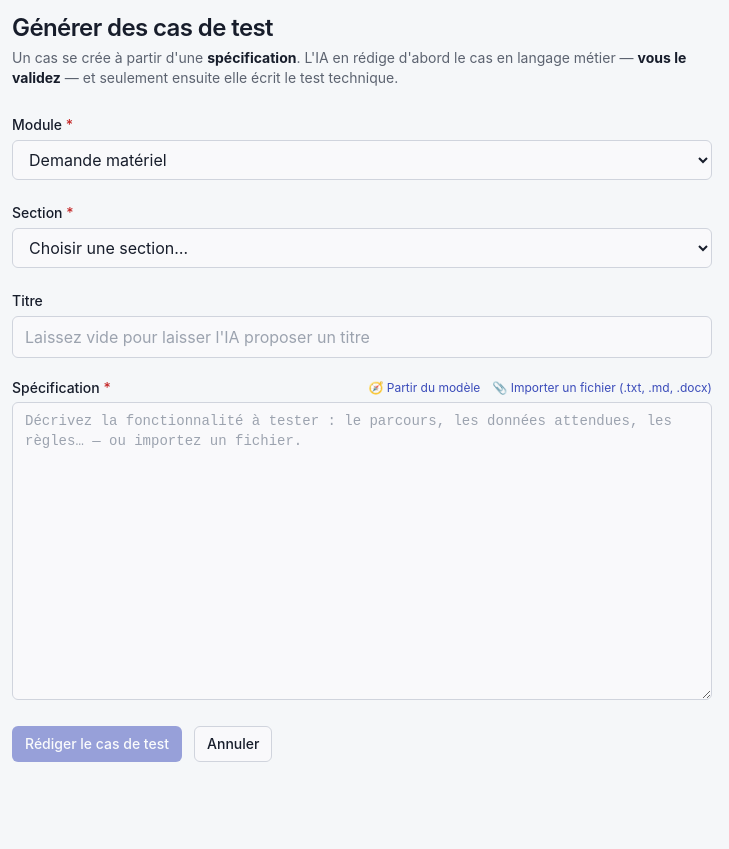
AddTestCase — la pause métier (0022 n°5, étendue au §9, à PLAT et repliée depuis l'étape 3bis) › REFUSE de valider un cas amputé de ses étapes
Replace the text in the text box with "La spécification à tester": point(362, 551) [12,402,712,700]
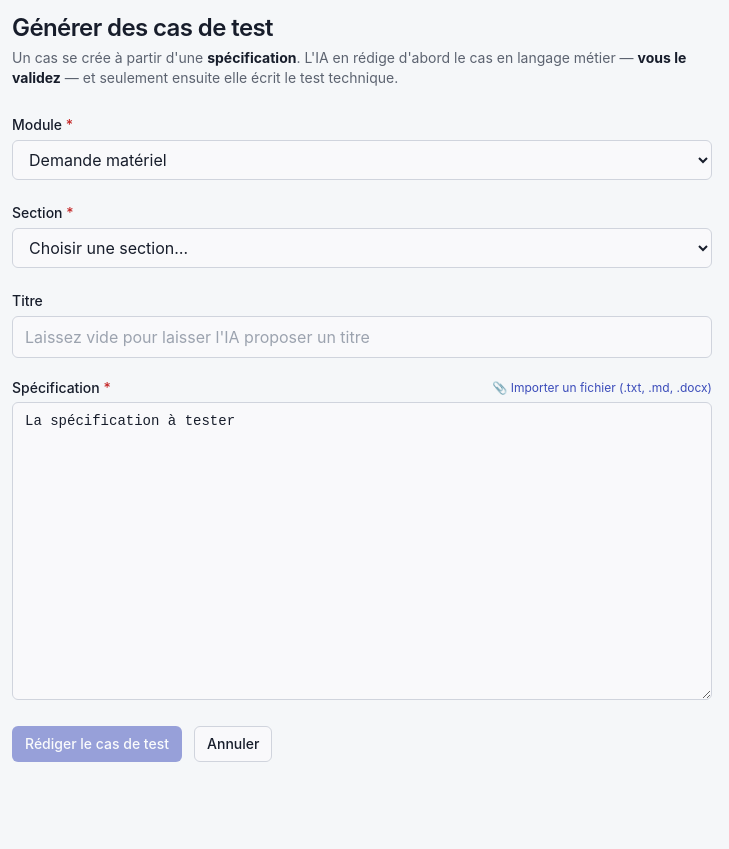
Select "Connexion" in the dropdown labelled "Section *": point(362, 248) [12,228,712,268]
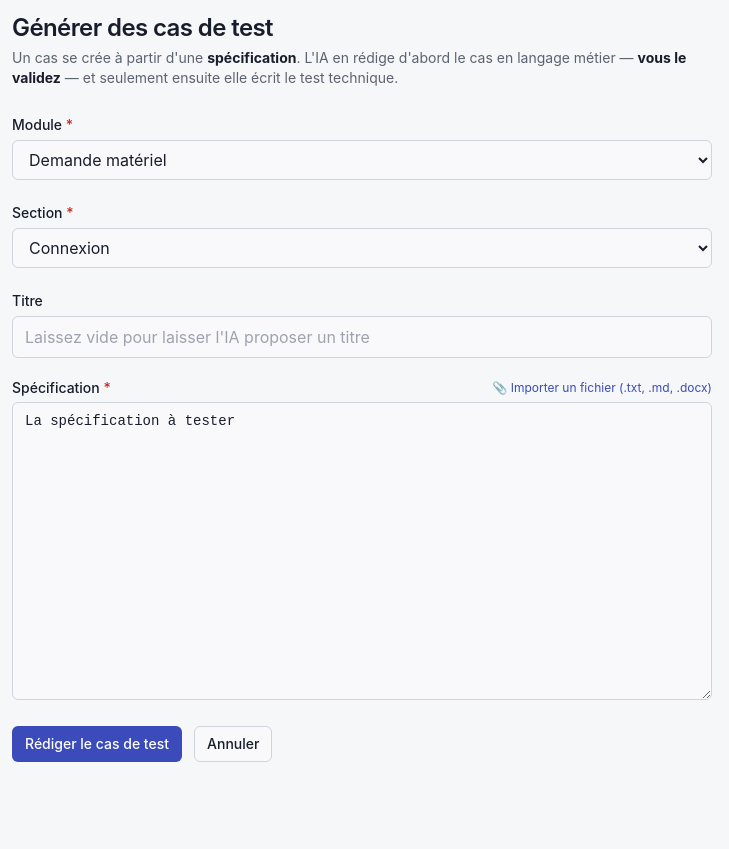
Submit the form
Wait 2100 ms
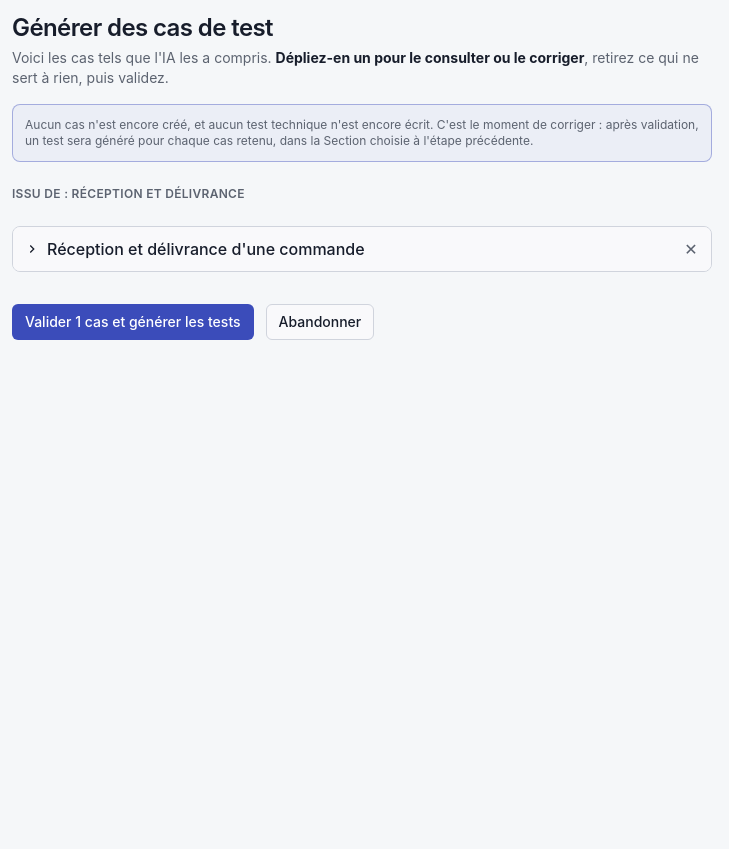
Click the button "Réception et délivrance d'une commande": point(342, 249) [13,227,671,271]
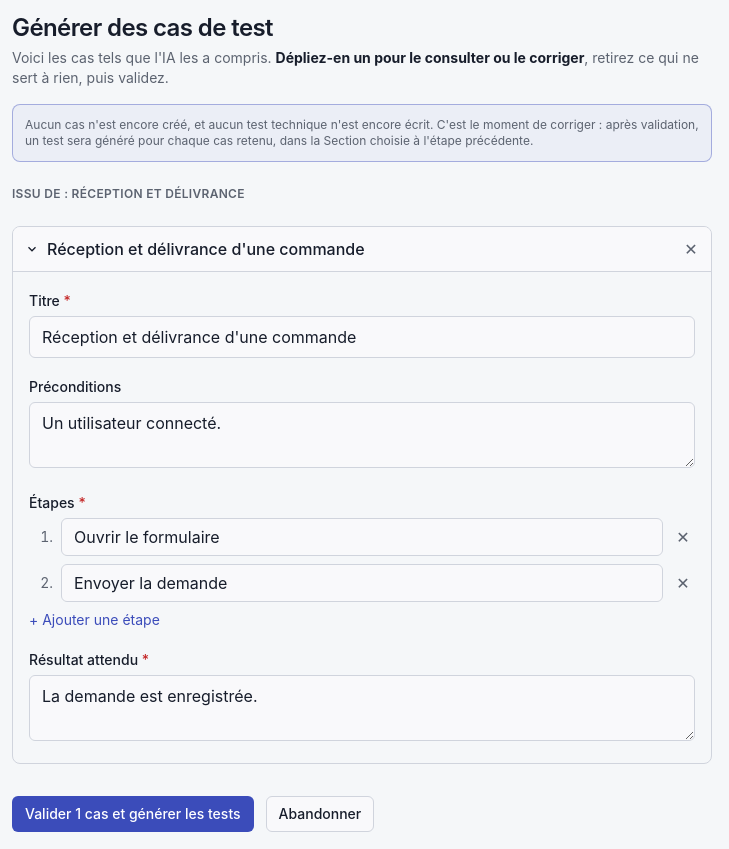
Click the button "✕" in the row of "1.": point(683, 537) [671,525,695,549]
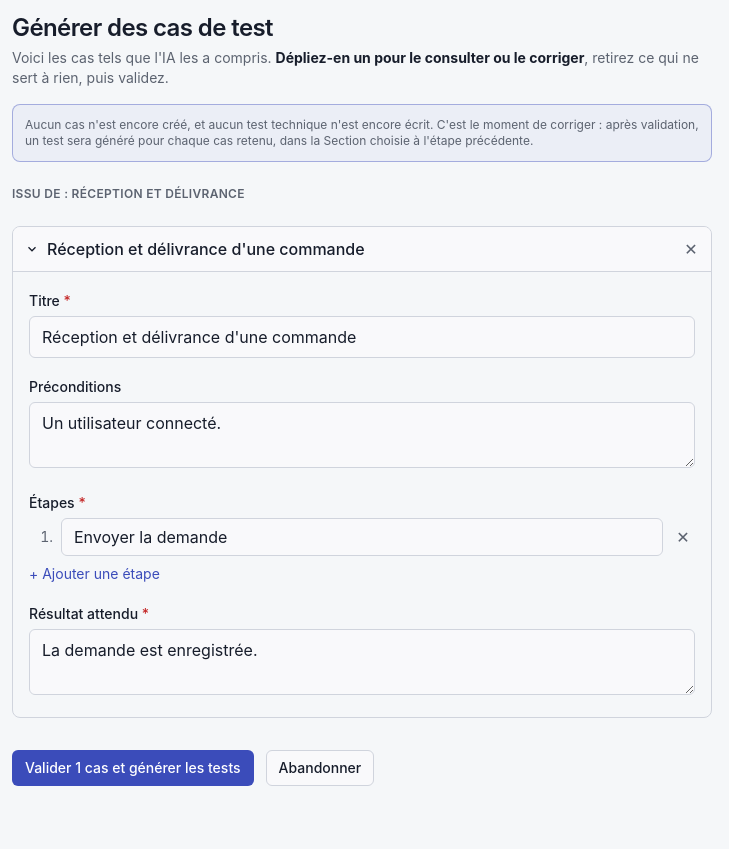
Click the button "✕" in the row of "1.": point(683, 537) [671,525,695,549]
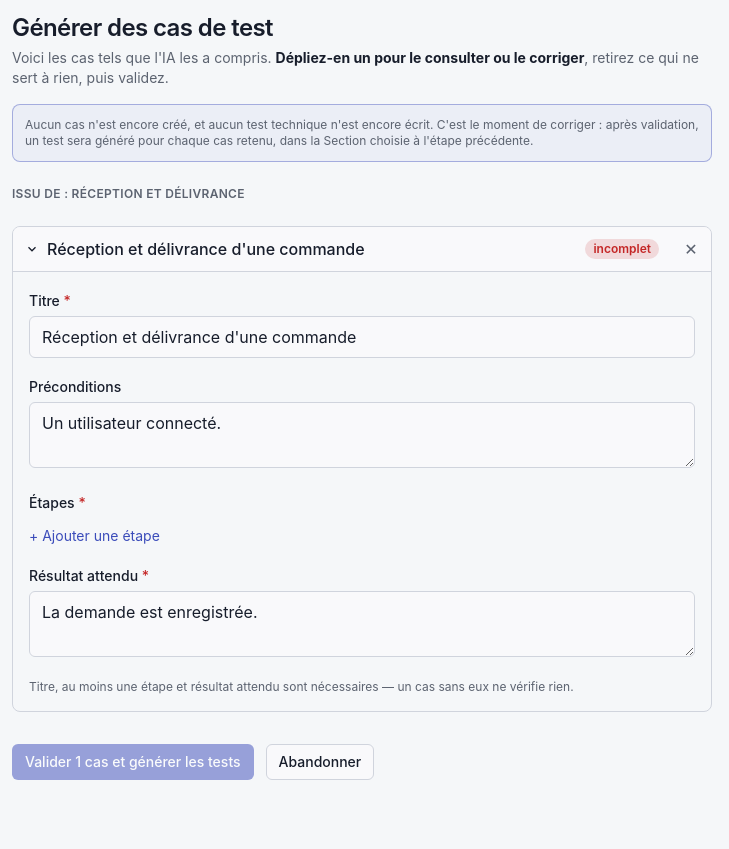
expect the button "Valider 1 cas et générer les tests" is disabled: met, box [12,744,254,780]
expect the text "incomplet" is shown: met, box [586,239,659,259]
